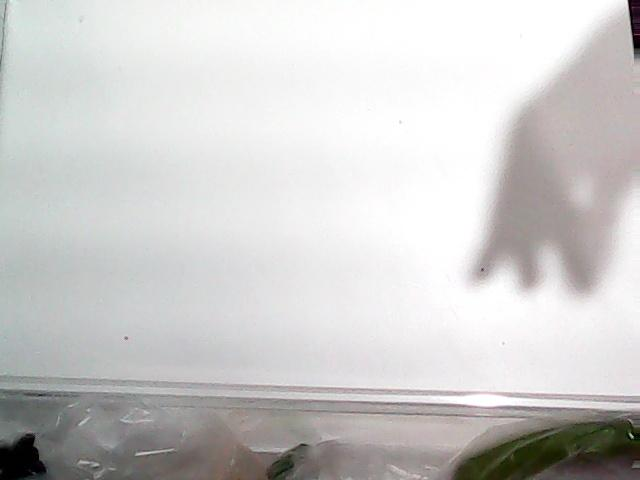pepper: (458, 411, 640, 480)
radish: (261, 442, 455, 480)
